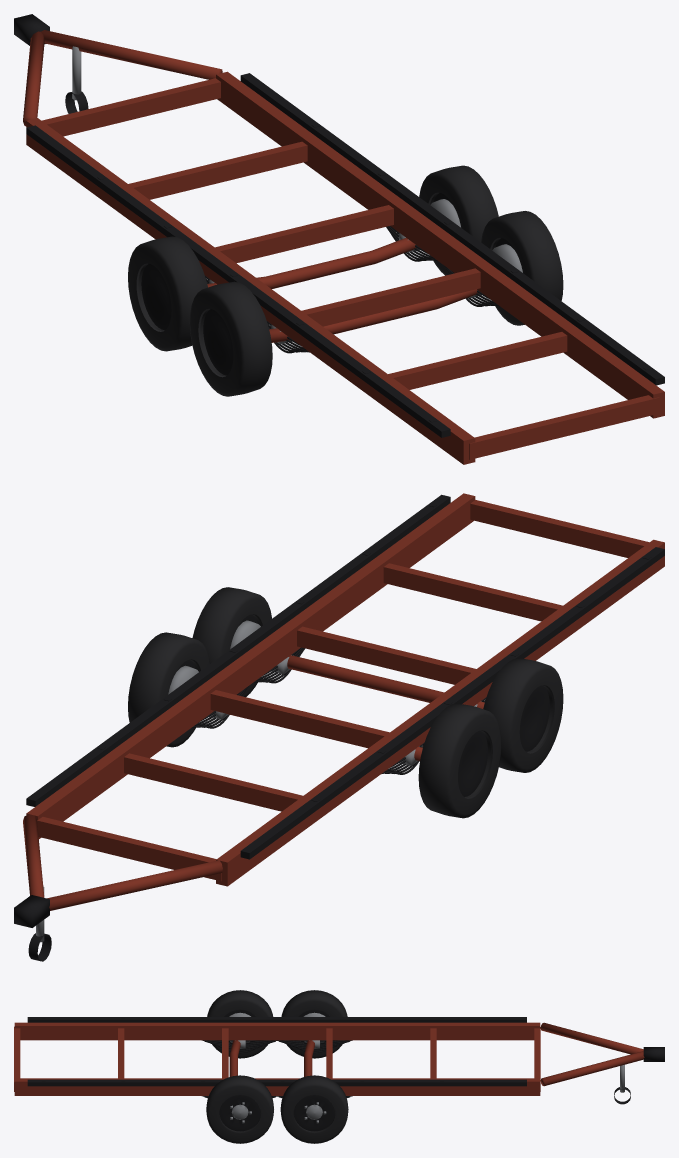
The model's file is harrow_tr50.glb.
The picture shows the model from 3 angles, top to bottom: view 1: azimuth 30°, elevation 25°; view 2: azimuth 150°, elevation 25°; view 3: azimuth 270°, elevation 25°; orthographic projection. The views are drawn at different scales.
Parts seen in each view (by area): view 1: rail_R, rail_L, wheel_B0L, wheel_B1L, mount_rail_R, mount_rail_L, tongue, cross_5, wheel_B0R, cross_4, cross_1, cross_3 (+5 smaller); view 2: rail_R, rail_L, wheel_B1L, wheel_B0L, mount_rail_R, mount_rail_L, tongue, wheel_B1R, cross_4, cross_2, cross_5, cross_3 (+4 smaller); view 3: rail_L, rail_R, wheel_B1R, wheel_B0R, mount_rail_R, mount_rail_L, tongue, wheel_B1L, wheel_B0L, leaf_B1L, leaf_B0L, cross_0 (+7 smaller).
Part boxes in pixels (x1,y1,x2,y2): rail_R: (216, 71, 664, 418); rail_L: (26, 118, 475, 464); wheel_B0L: (189, 281, 272, 396); wheel_B1L: (128, 236, 207, 351); mount_rail_R: (240, 73, 664, 385); mount_rail_L: (26, 125, 450, 437); tongue: (14, 14, 222, 126); cross_5: (469, 395, 659, 459); wheel_B0R: (481, 211, 563, 325); cross_4: (388, 332, 567, 389); cross_1: (128, 141, 307, 199); cross_3: (301, 268, 480, 326); rail_R: (26, 493, 475, 839); rail_L: (216, 539, 664, 886); wheel_B1L: (418, 703, 501, 818); wheel_B0L: (483, 658, 563, 772); mount_rail_R: (26, 494, 450, 806); mount_rail_L: (240, 547, 664, 859); tongue: (14, 814, 222, 961); wheel_B1R: (128, 632, 210, 747); cross_4: (383, 563, 562, 621); cross_2: (210, 690, 389, 748); cross_5: (470, 500, 649, 557); cross_3: (297, 626, 476, 684); rail_L: (14, 1022, 540, 1040); rail_R: (14, 1078, 540, 1095); wheel_B1R: (280, 1075, 348, 1143); wheel_B0R: (206, 1075, 273, 1143); mount_rail_R: (27, 1079, 526, 1086); mount_rail_L: (27, 1017, 526, 1022); tongue: (540, 1022, 664, 1104); wheel_B1L: (281, 990, 347, 1058); wheel_B0L: (207, 990, 273, 1058); leaf_B1L: (276, 1040, 352, 1053); leaf_B0L: (202, 1040, 278, 1053); cross_0: (534, 1027, 540, 1091).
Bounding box in the file's own units: 2.1 × 0.64 × 6.13.
